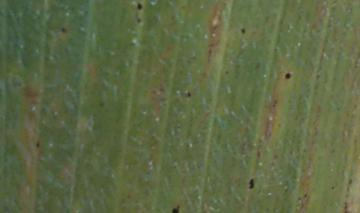tarspot: (169, 203, 182, 213), (247, 177, 255, 191), (255, 147, 262, 160), (270, 98, 279, 108), (283, 71, 292, 80), (136, 1, 144, 11), (185, 90, 193, 98), (59, 25, 67, 33), (239, 26, 246, 35), (135, 16, 142, 25), (223, 69, 231, 76), (97, 100, 105, 107), (34, 139, 40, 148), (346, 178, 354, 184), (272, 152, 278, 159), (329, 184, 335, 190), (302, 192, 308, 198)
